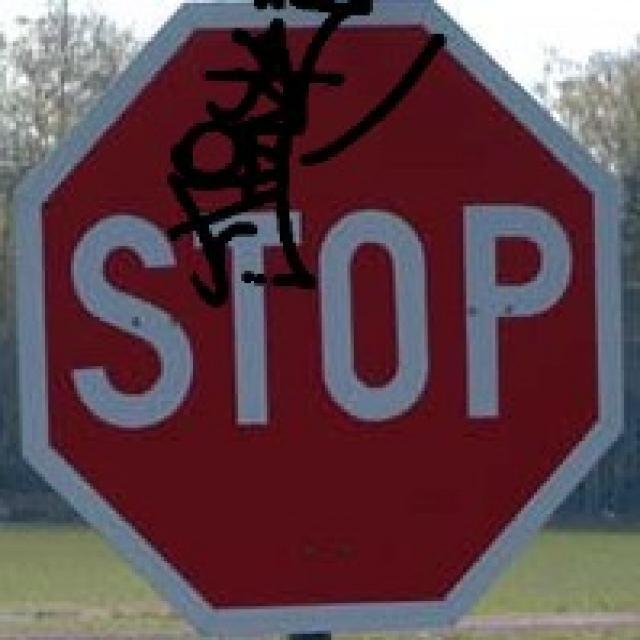Stop-Sign: (101, 45, 556, 528)
